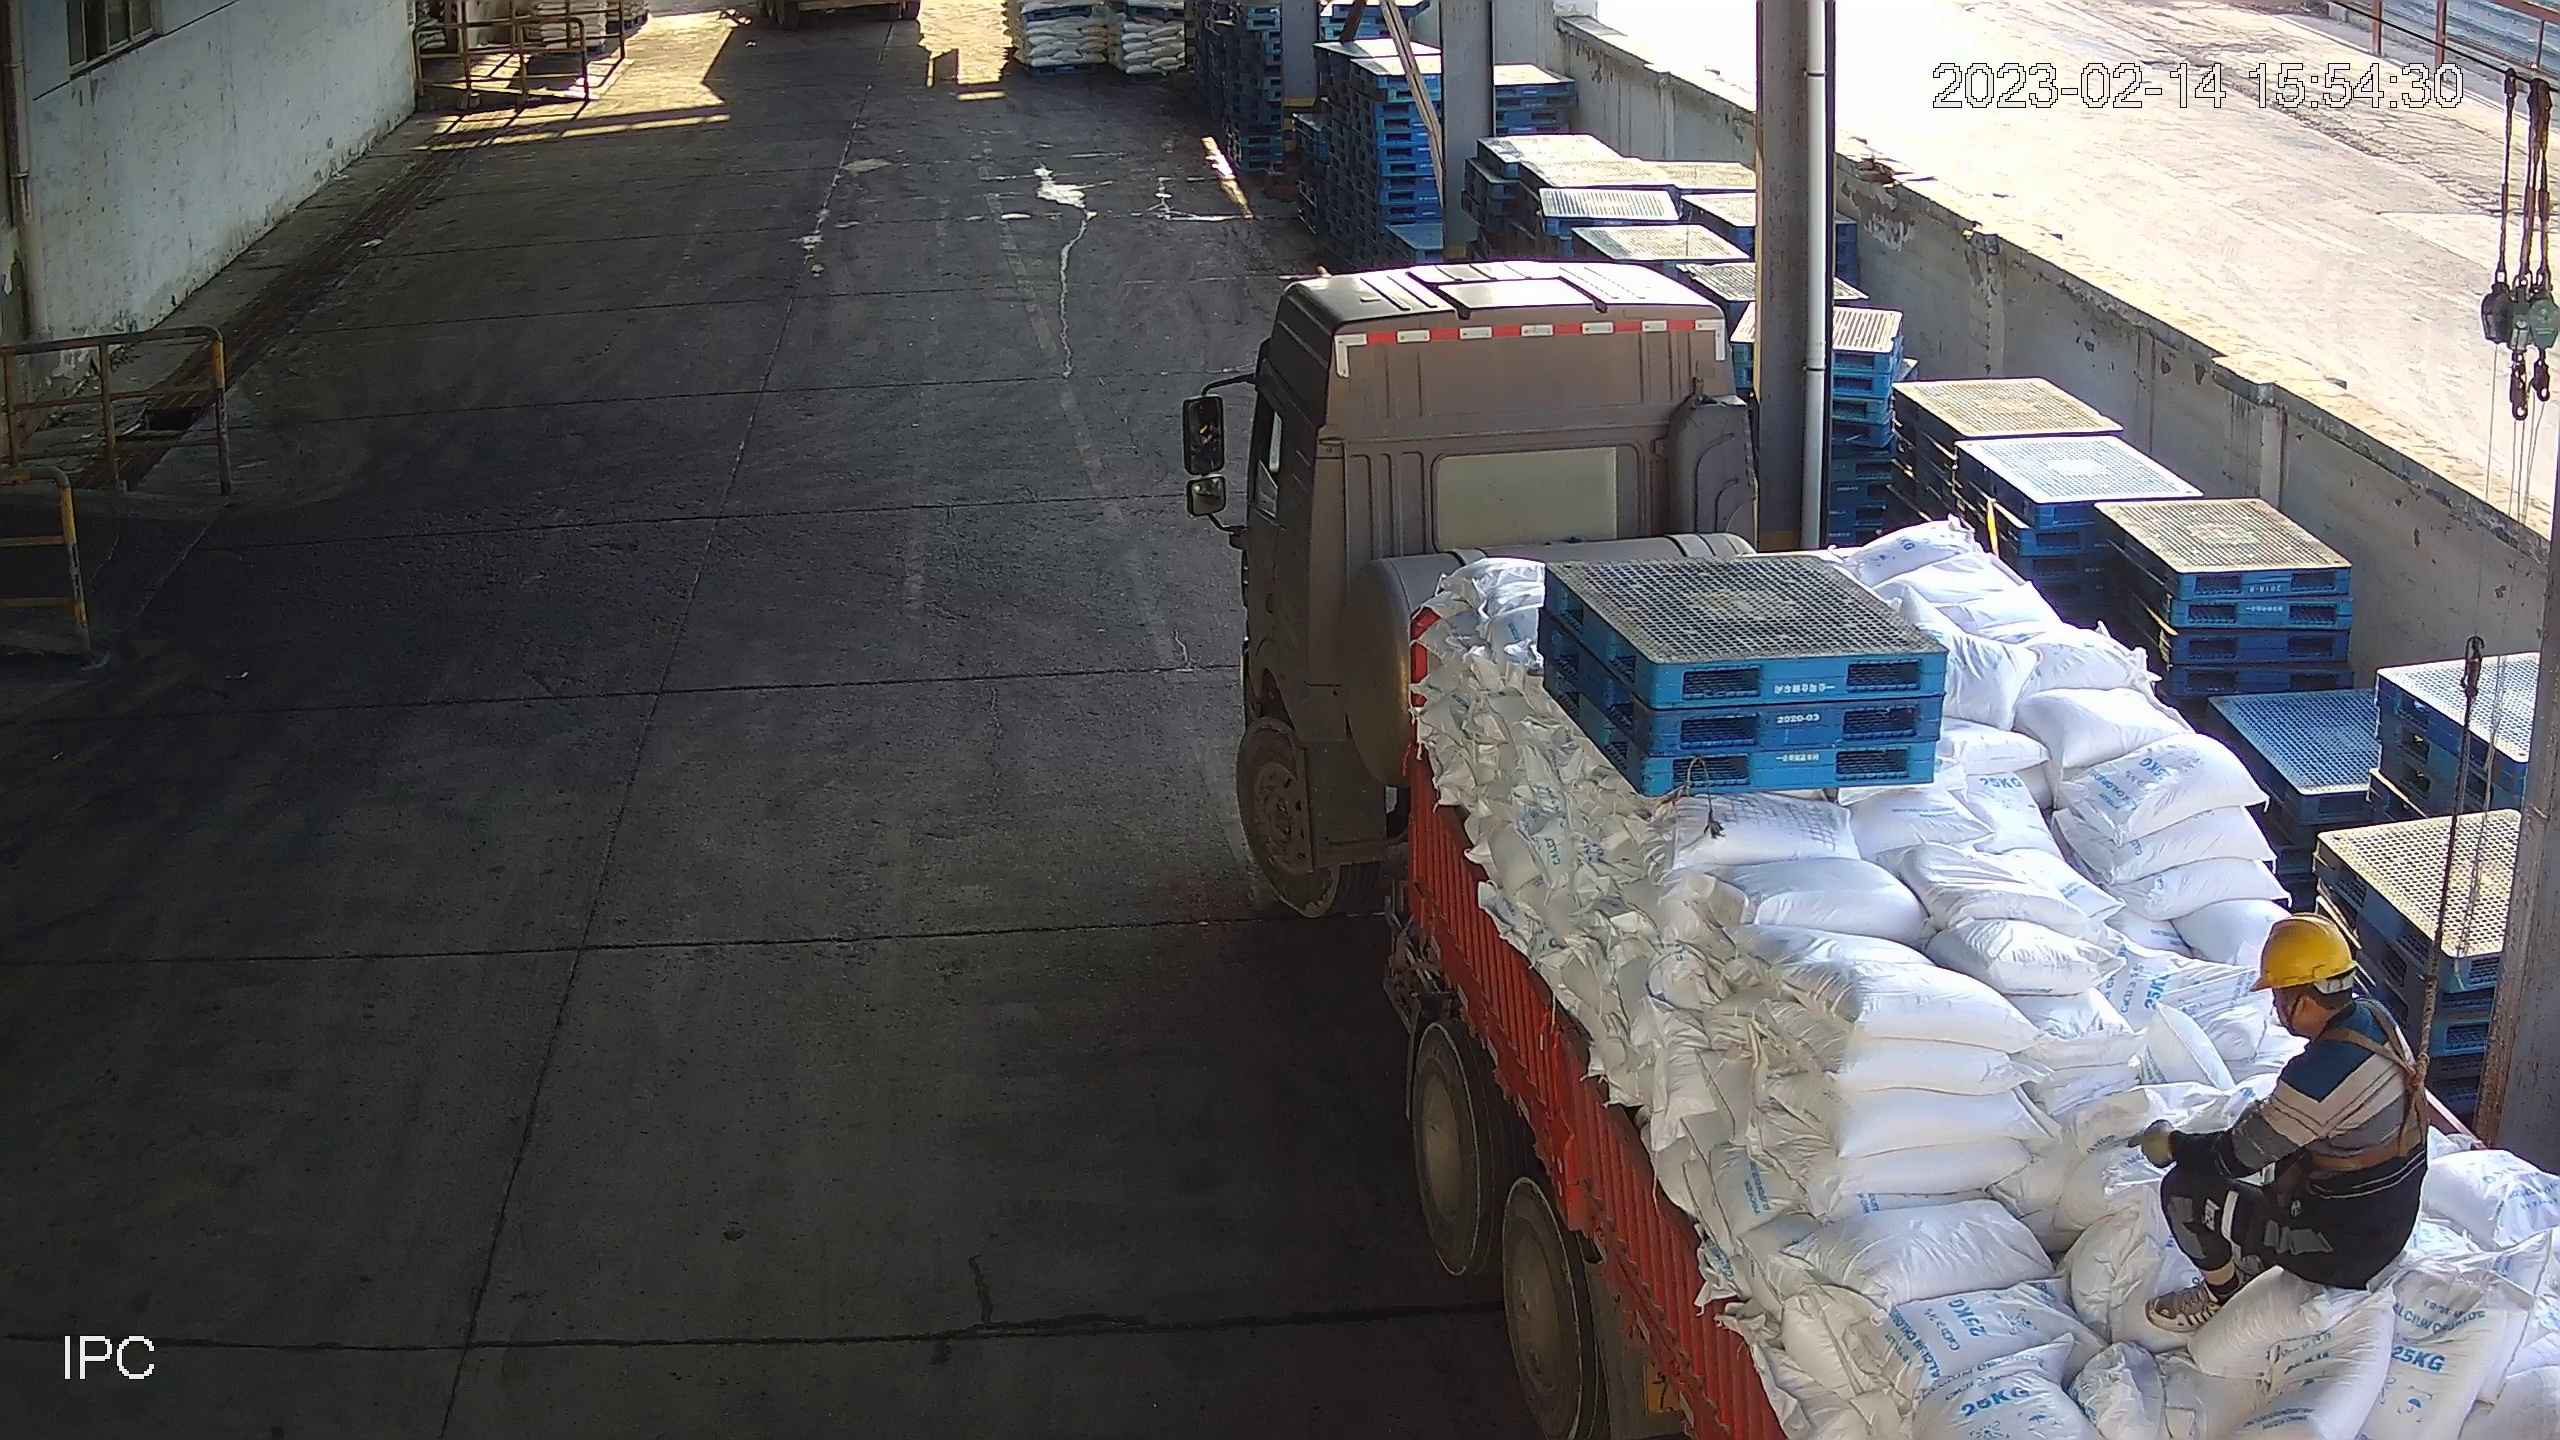belt: (2305, 1001, 2436, 1173)
head: (2248, 912, 2425, 1112)
helmet: (2248, 915, 2356, 990)
people: (2128, 913, 2437, 1331)
truck: (1184, 261, 2560, 1440)
